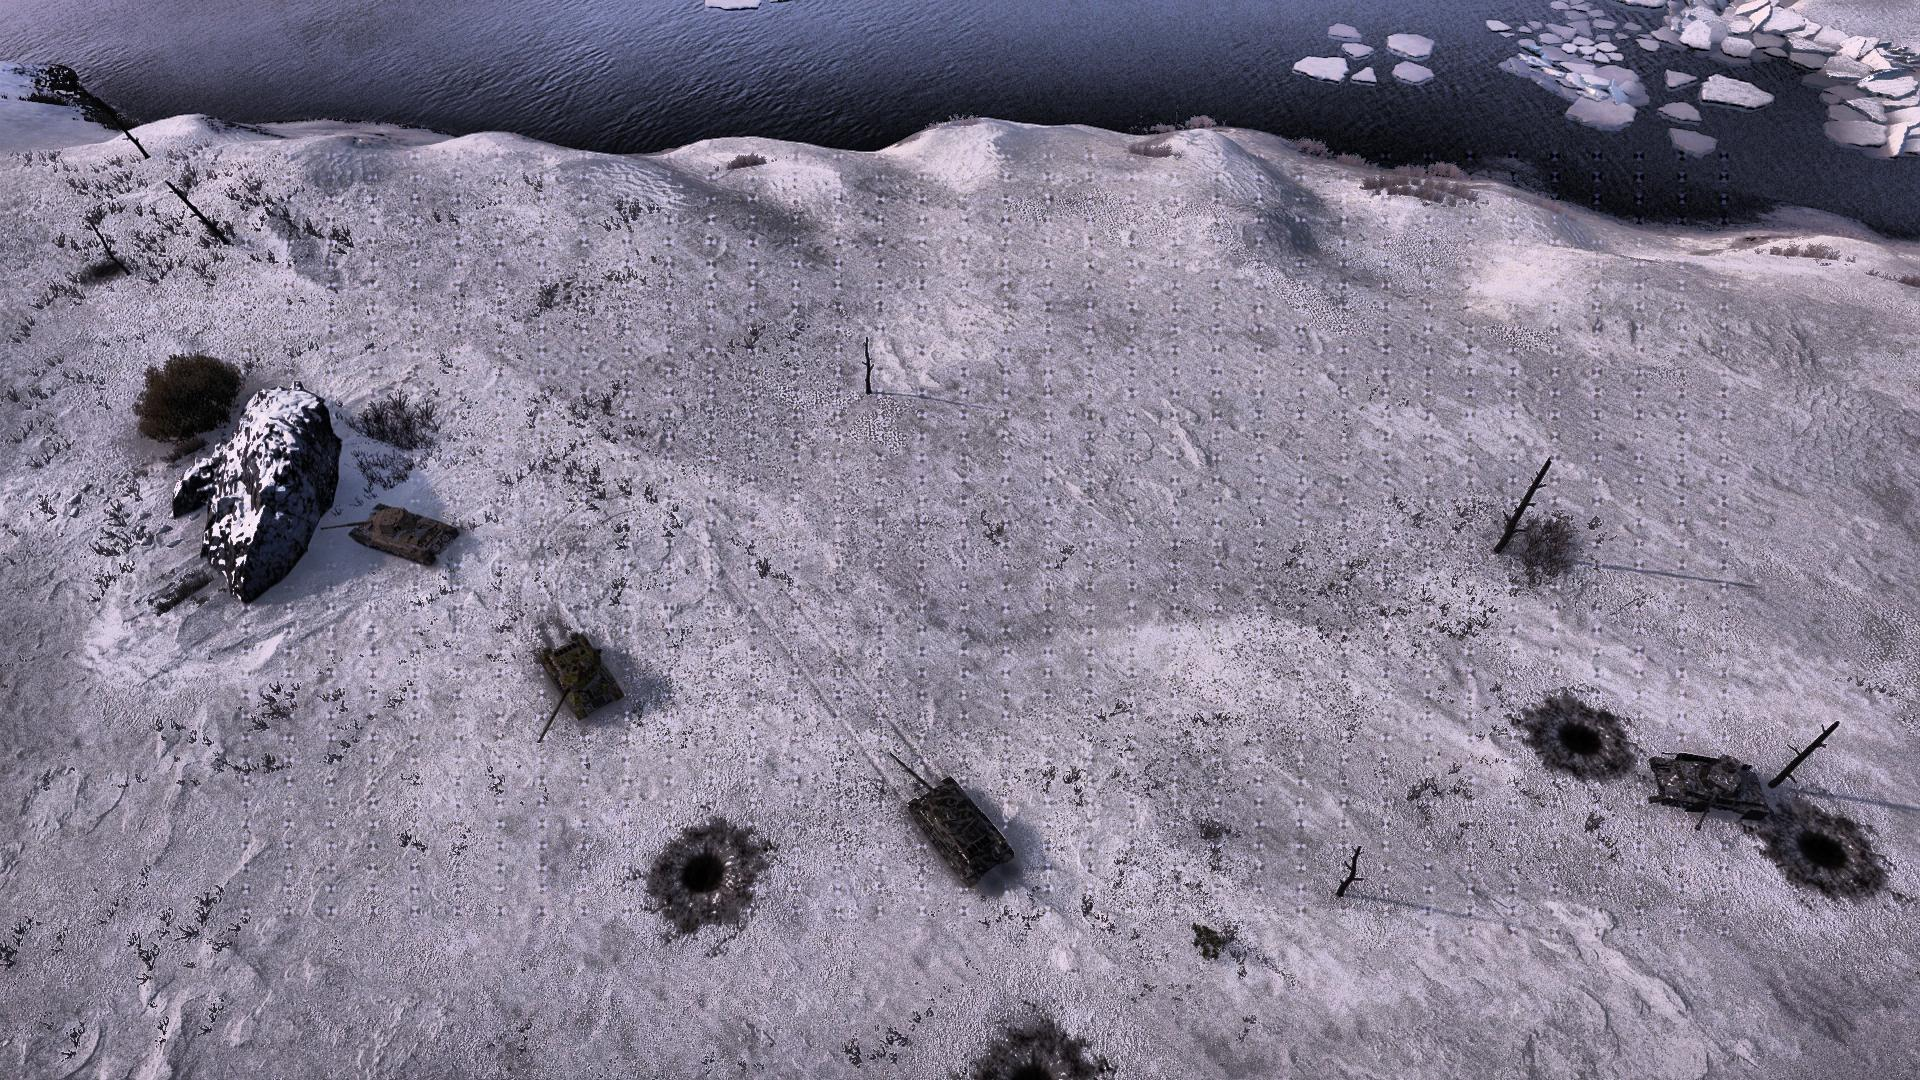military-vehicle: (890, 753, 1015, 884), (538, 632, 625, 745), (1650, 748, 1768, 827), (320, 504, 462, 563)
